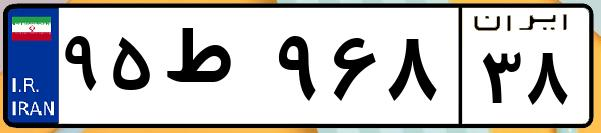3: (475, 38, 525, 113)
5: (110, 28, 158, 98)
6: (330, 28, 385, 110)
8: (385, 28, 445, 110), (525, 38, 570, 115)
9: (270, 28, 330, 110), (57, 26, 110, 100)
ط: (158, 20, 270, 120)
